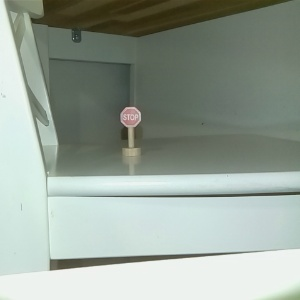stop sign: (118, 105, 143, 157)
